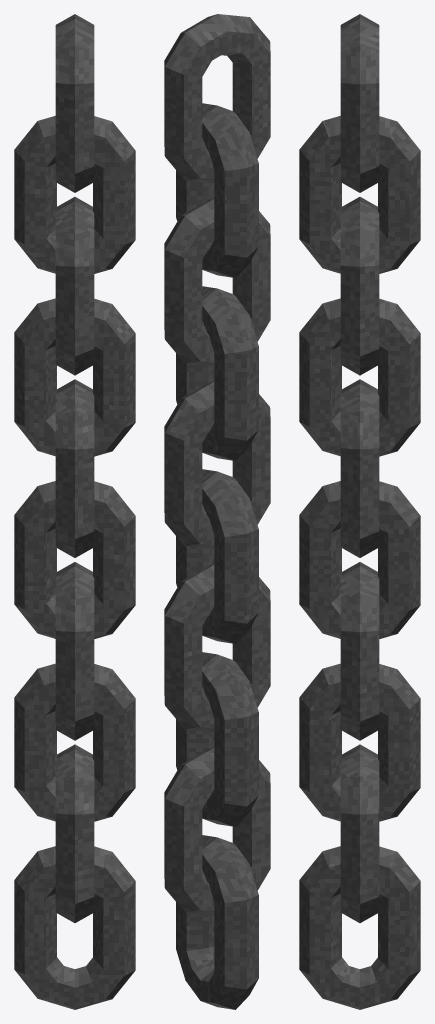
The model's file is Chain.fbx.
3 renders of one model, left to right at view 1: azimuth 90°, elevation 25°; view 2: azimuth 210°, elevation 25°; view 3: azimuth 270°, elevation 25°, orthographic.
Parts seen in each view (by area): view 1: Torus; view 2: Torus; view 3: Torus.
Boxes of the visible parts, x1,y1,x2,y2 form: Torus: (14,14,135,1009); Torus: (164,14,270,1009); Torus: (299,14,420,1009).
Size of the model in its own units: 55.42 by 500 by 55.41.
